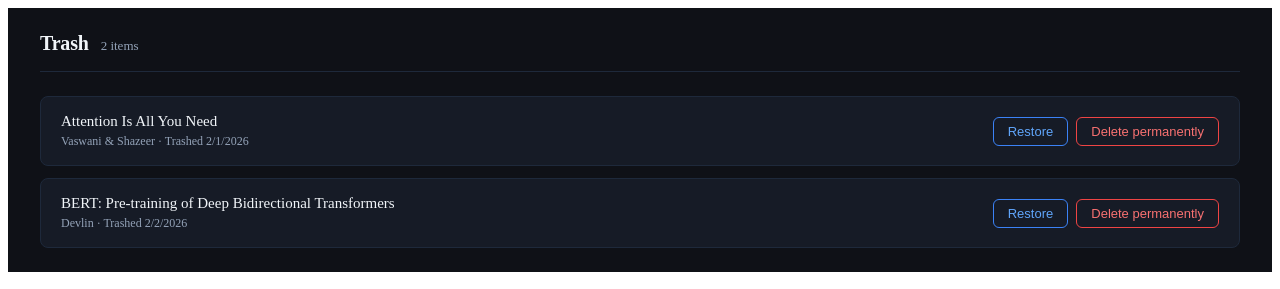
Test case: TrashView [L2-04] › restores a paper when Restore button is clicked
The width and height of the screenshot is (1280, 289).
Click the button with aria-label "Restore Attention Is All You Need": [1030, 131] box [993,116,1068,146]
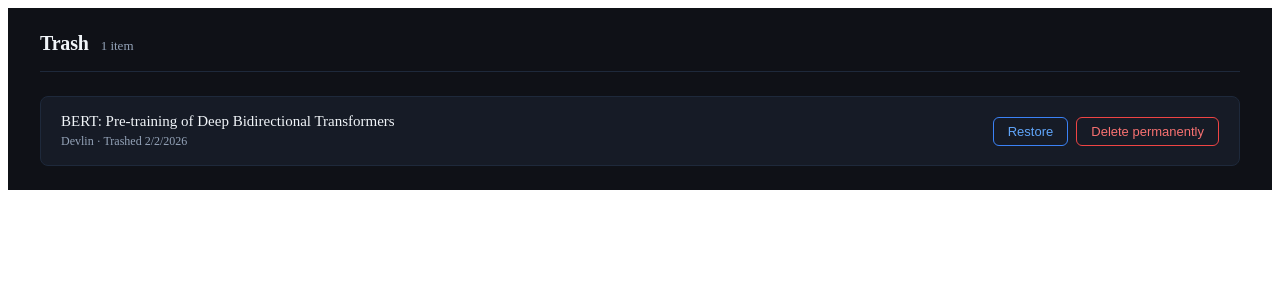
Check: the text "Attention Is All You Need" is gone
